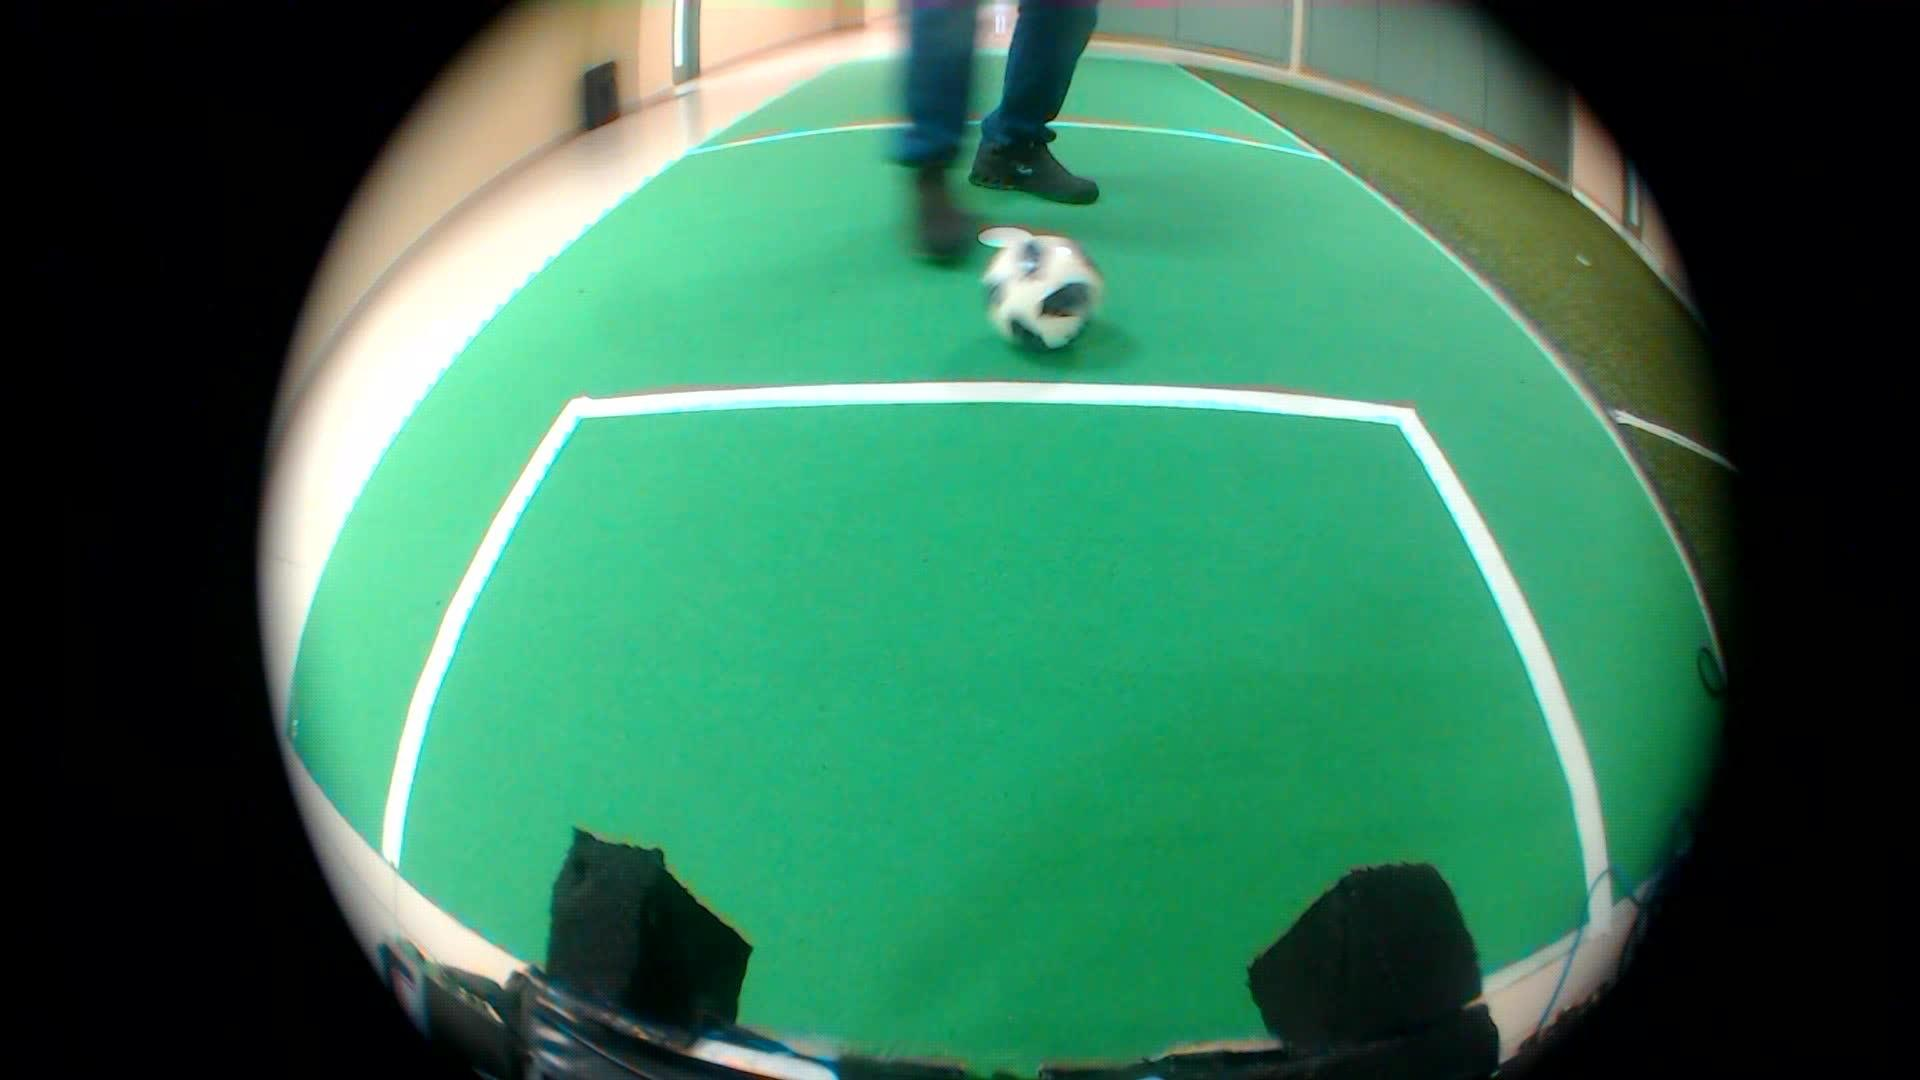ball: (968, 222, 1114, 367)
